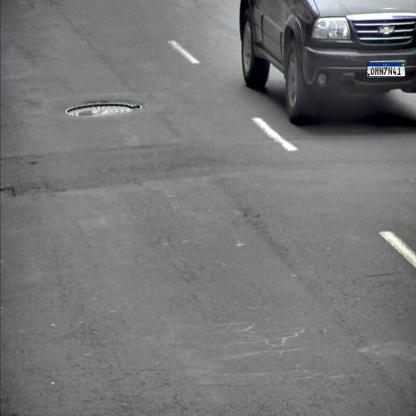PlacaM: (366, 62, 406, 77)
